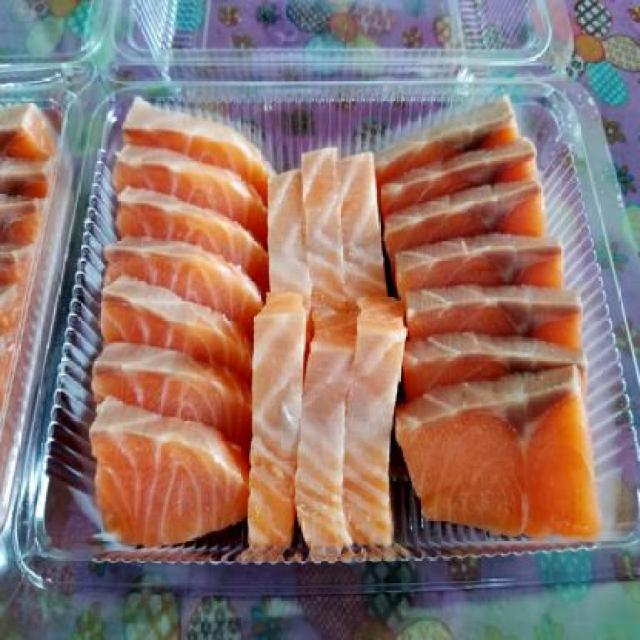salmon: (374, 110, 608, 542), (94, 109, 252, 561), (252, 148, 396, 554)
